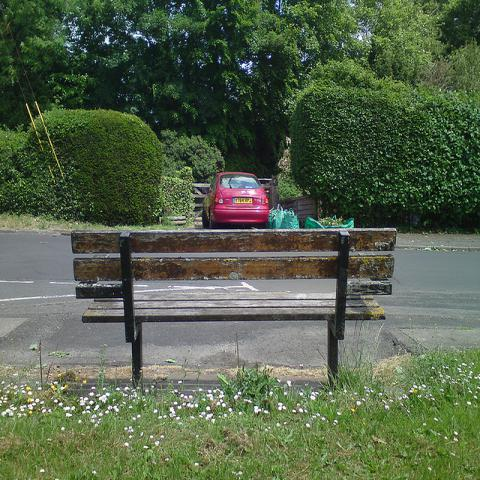car: (202, 172, 270, 230)
